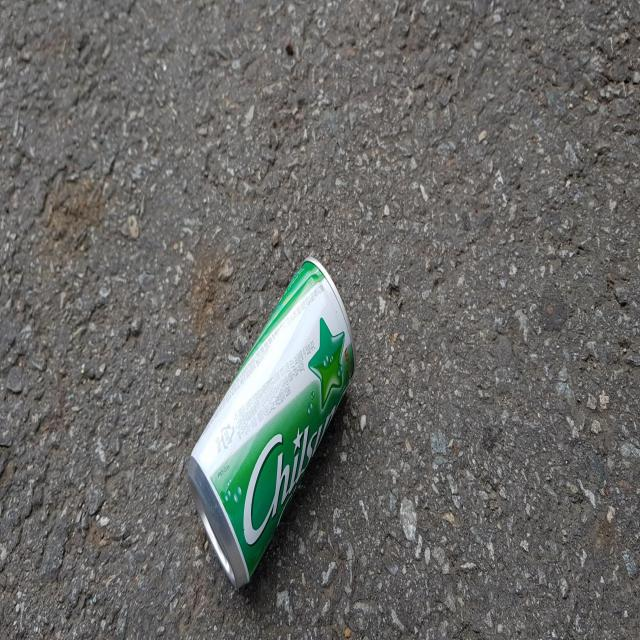can: (187, 256, 355, 588)
